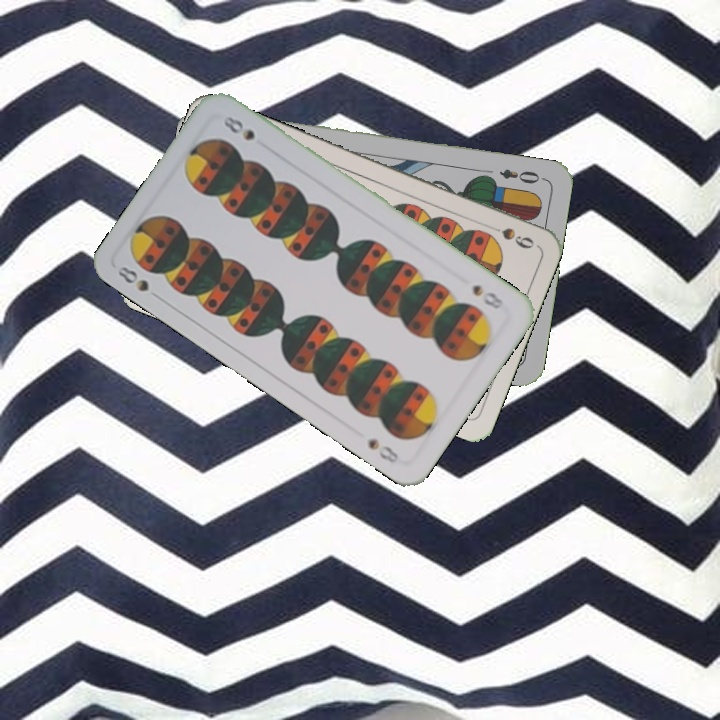EO: (495, 164, 547, 186)
S8: (113, 262, 165, 304), (468, 280, 507, 312)
S9: (481, 220, 537, 252)
